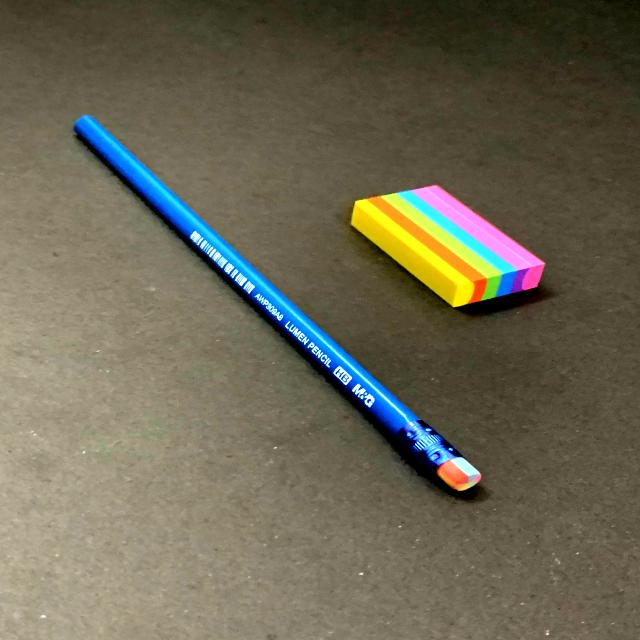Eraser: (330, 167, 577, 327)
Pencil: (34, 96, 547, 527)
